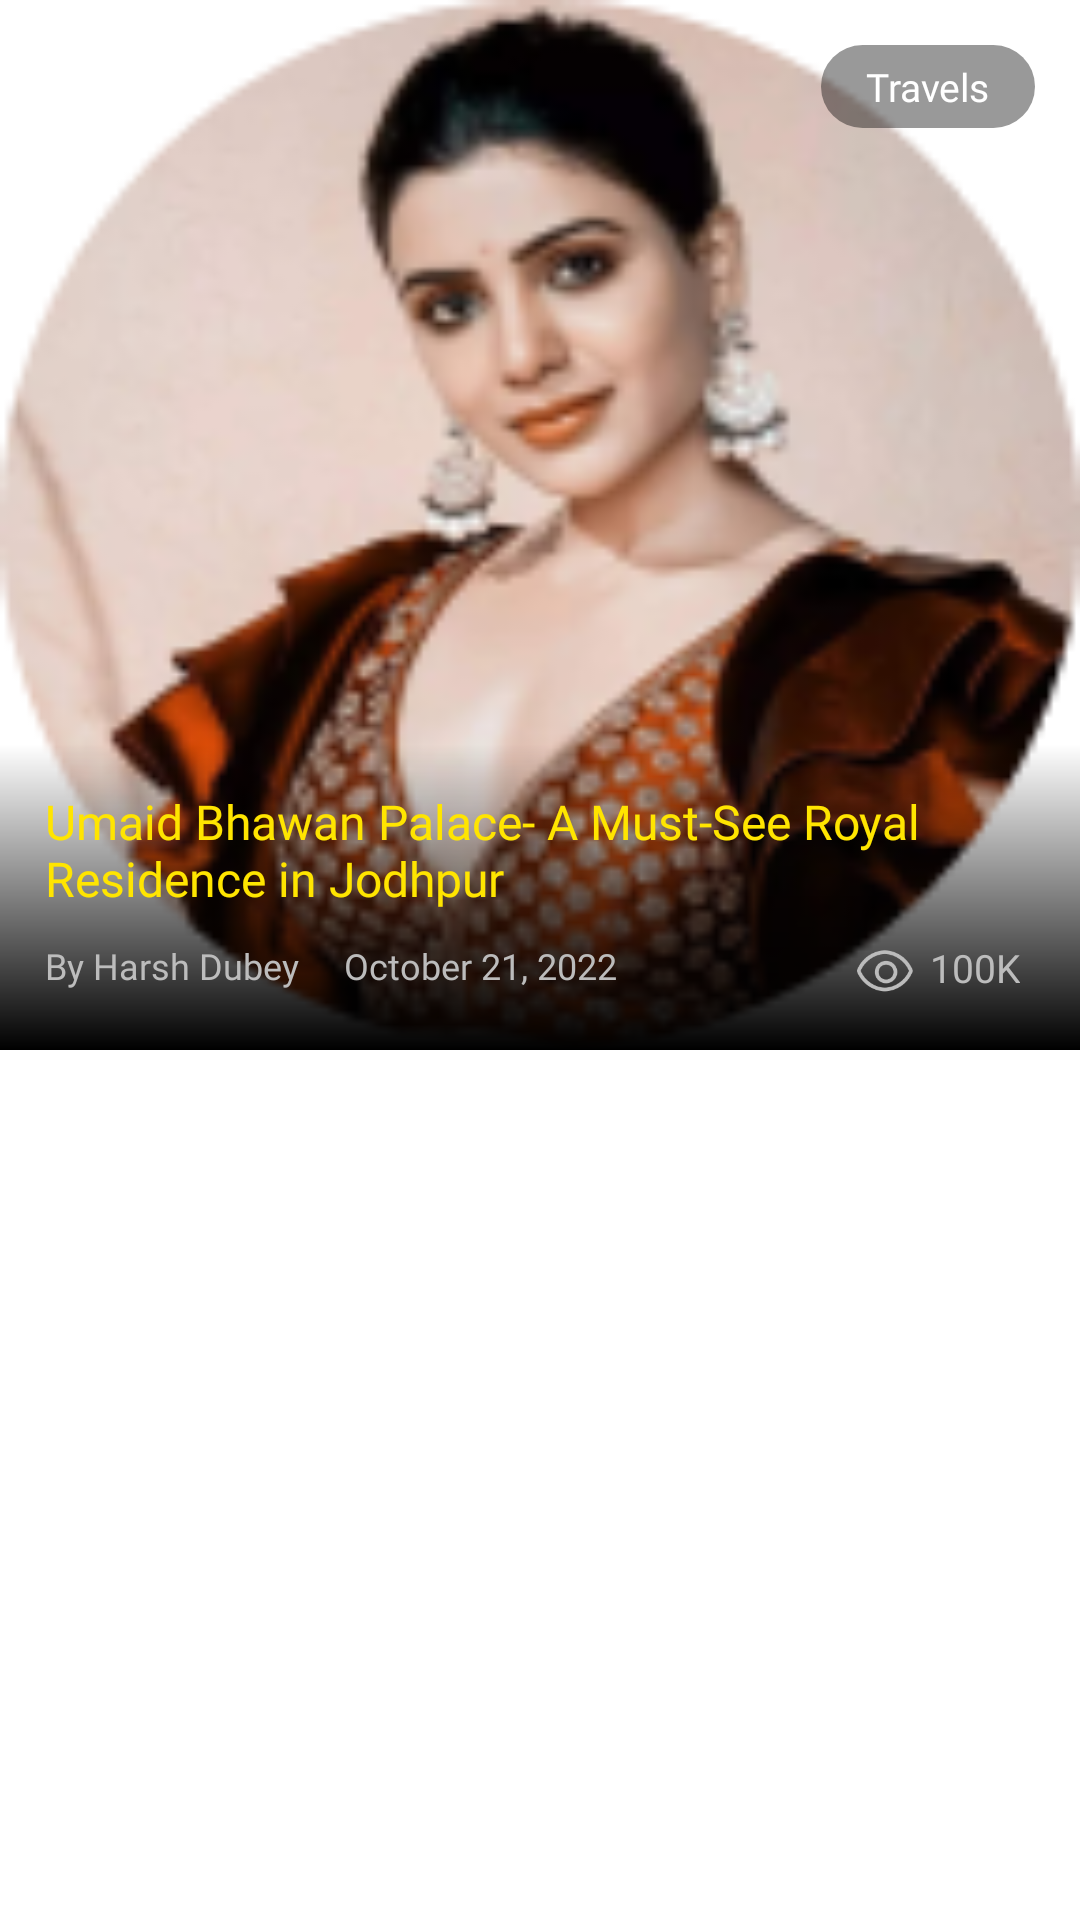

Where to tap for icons on this 1080 × 1920 app screen, as (x=x, y=y):
view: (x=885, y=971)
